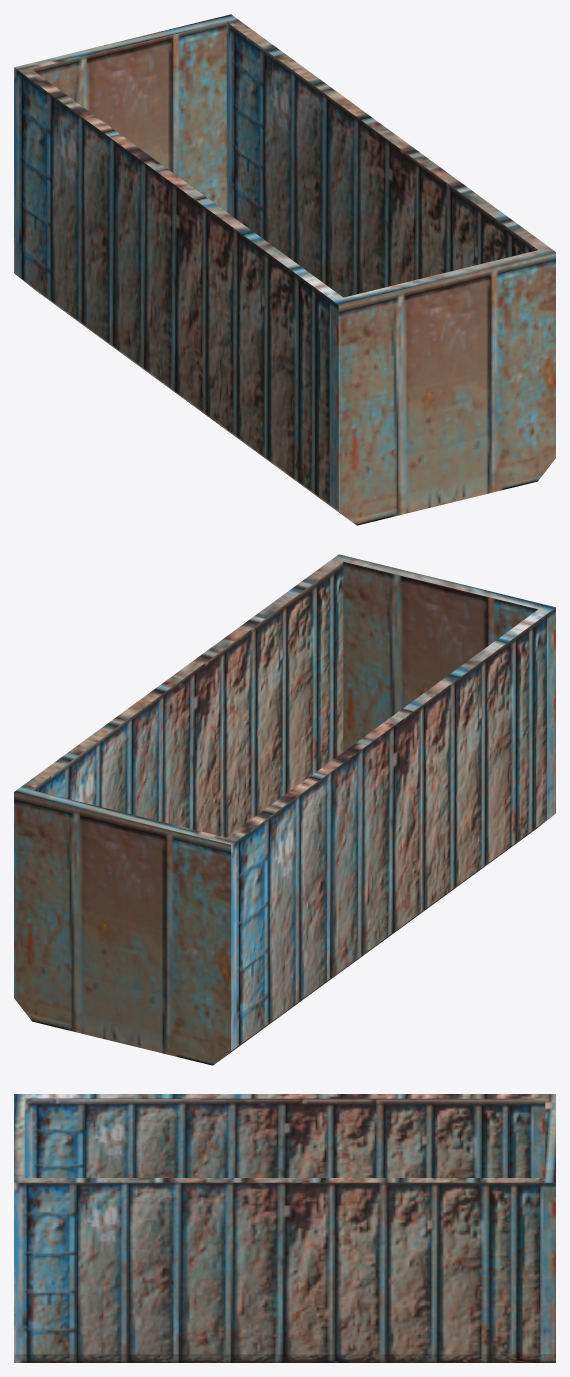
The model's file is metal_dumpster.FBX.
The picture shows the model from 3 angles, top to bottom: view 1: azimuth 30°, elevation 25°; view 2: azimuth 150°, elevation 25°; view 3: azimuth 270°, elevation 25°; orthographic projection. The views are drawn at different scales.
Visible parts, largest first — view 1: metal_dumpster; view 2: metal_dumpster; view 3: metal_dumpster.
Part boxes in pixels (x1=…): metal_dumpster: x1=14, y1=14, x2=555, y2=525; metal_dumpster: x1=14, y1=554, x2=555, y2=1065; metal_dumpster: x1=14, y1=1094, x2=555, y2=1362.
Bounding box in the file's own units: 73.67 × 72.95 × 191.
